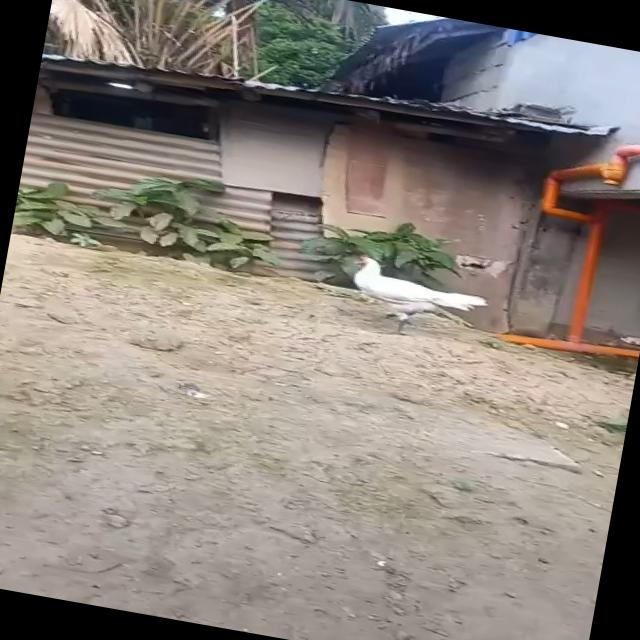walking: (314, 242, 502, 342)
